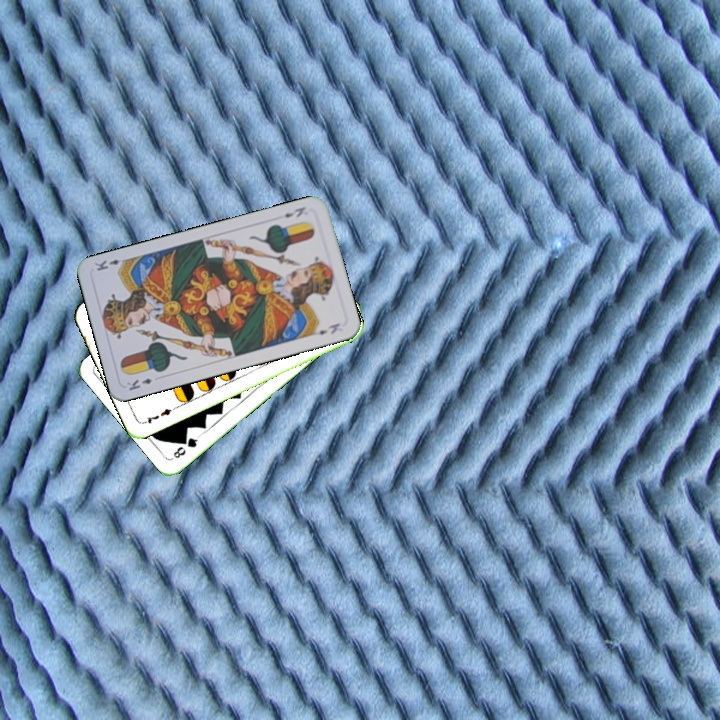E7: (139, 403, 178, 426)
EK: (122, 374, 155, 393), (280, 202, 308, 220)
G8: (169, 431, 202, 461)
